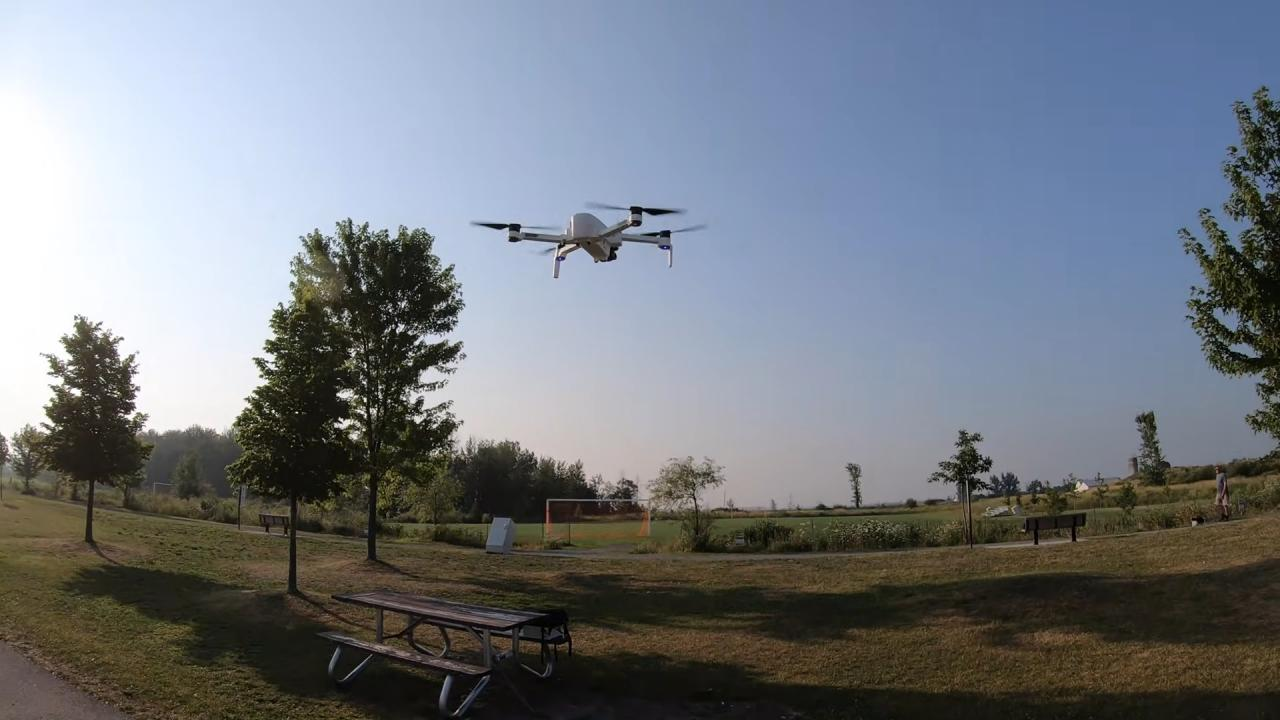Drone: (458, 185, 712, 292)
